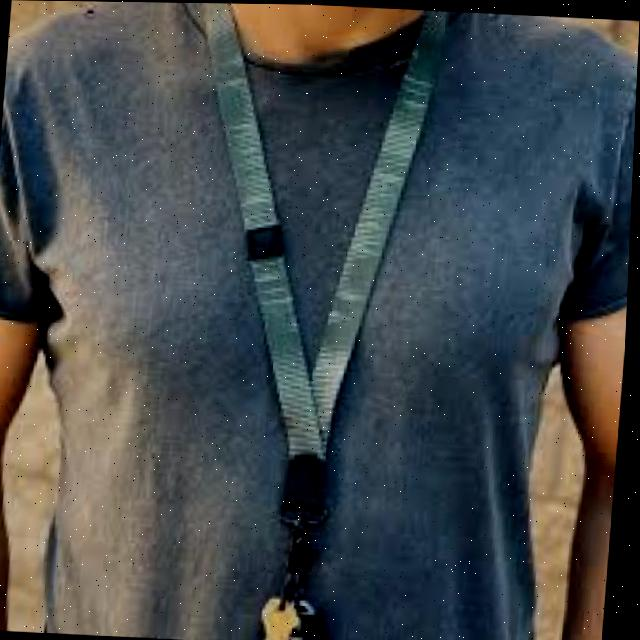id_card: (165, 7, 447, 640)
